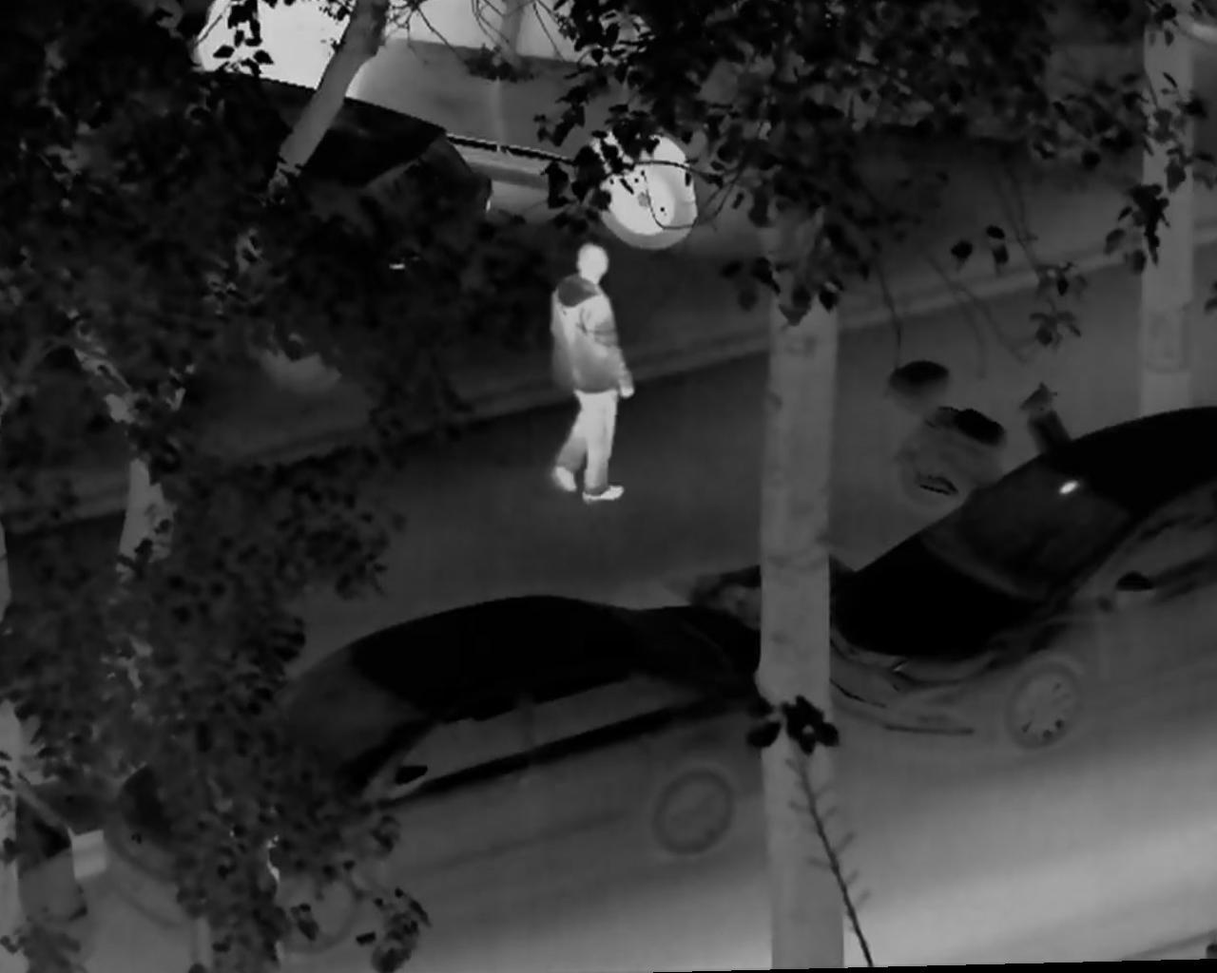person: (539, 244, 638, 506)
